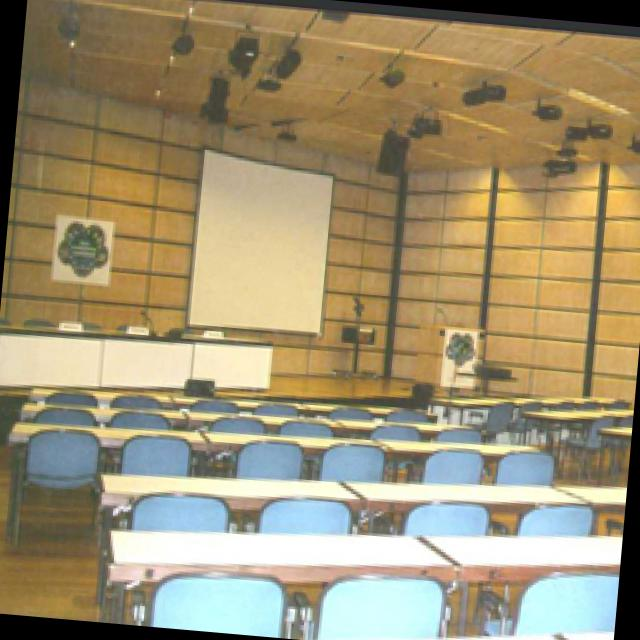ceiling beam: (23, 0, 640, 168)
chair: (146, 571, 283, 635), (315, 575, 440, 636), (511, 571, 616, 633), (131, 491, 224, 527), (256, 494, 346, 528), (119, 432, 186, 471), (404, 502, 486, 533), (234, 437, 299, 476), (316, 442, 381, 478), (515, 503, 592, 533), (422, 447, 477, 479), (494, 451, 550, 481), (30, 405, 95, 421), (209, 411, 263, 429), (276, 418, 333, 434), (105, 408, 168, 422), (433, 425, 477, 442), (375, 421, 418, 438)
chair -occluded-: (2, 427, 96, 544)
desk calendar: (0, 320, 99, 383), (103, 329, 188, 383), (189, 337, 268, 388)
microphone: (133, 305, 154, 328), (427, 302, 451, 319)
overhead projector: (330, 290, 375, 375)
painting crop: (48, 214, 110, 281)
podium: (410, 319, 480, 386)
projection screen: (184, 144, 330, 332)
projector: (265, 117, 298, 140)
row of chairs: (45, 389, 427, 419)
small table part: (453, 367, 516, 390)
speaker: (197, 74, 231, 121), (374, 124, 407, 169)
table -X: (102, 527, 454, 583), (33, 383, 435, 410), (422, 532, 617, 581), (4, 416, 207, 441), (208, 428, 387, 449), (16, 399, 181, 418), (380, 436, 537, 454), (184, 409, 338, 427), (424, 388, 609, 402), (520, 401, 628, 419), (337, 414, 464, 428)
tables: (96, 469, 622, 510)
